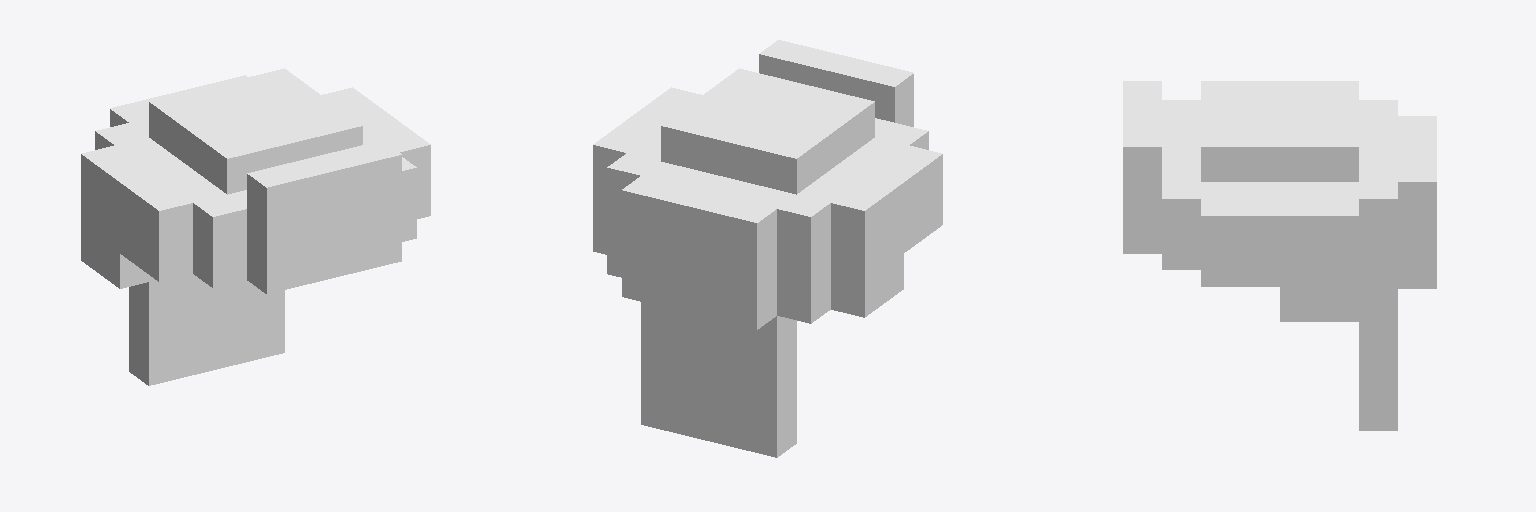
Rendered from char-175-helm_lgt_3c_sh.obj.
The picture shows the model from 3 angles: view 1: azimuth 30°, elevation 25°; view 2: azimuth 150°, elevation 25°; view 3: azimuth 270°, elevation 25°; orthographic projection.
Visible parts, largest first — view 1: helm_lgt_3c_sh; view 2: helm_lgt_3c_sh; view 3: helm_lgt_3c_sh.
Part boxes in pixels (x1,y1,x2,y2): helm_lgt_3c_sh: (81,68,430,385); helm_lgt_3c_sh: (593,40,942,457); helm_lgt_3c_sh: (1123,81,1436,430).
Bounding box in the file's own units: 0.8 × 0.8 × 0.8.